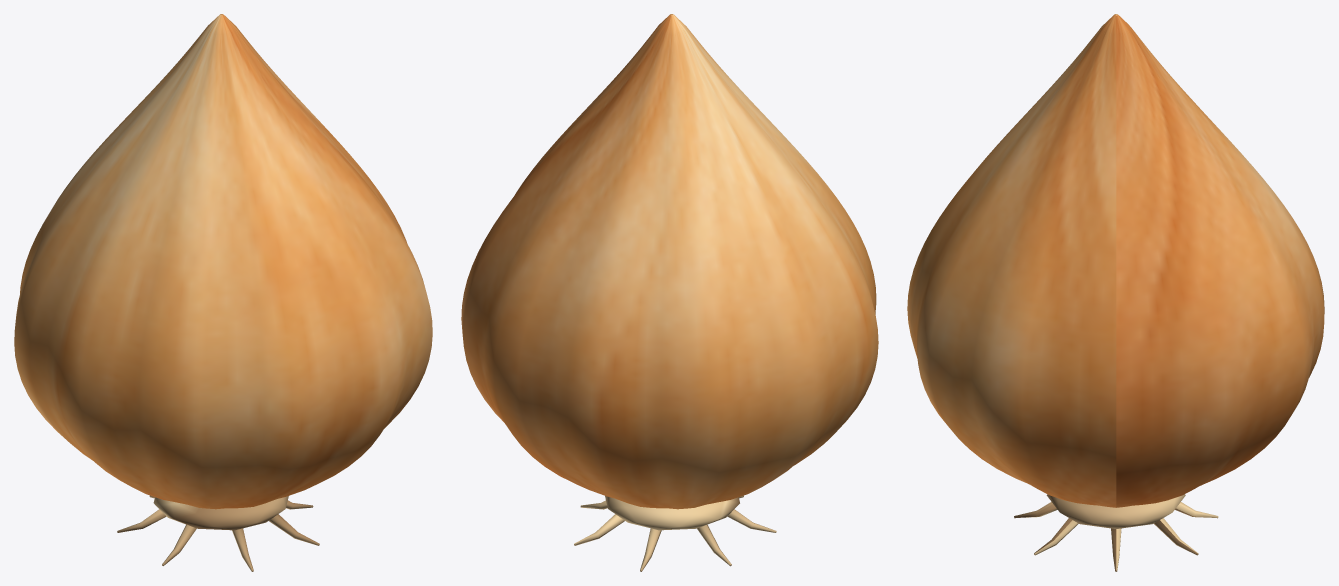
The model's file is NP_Tulip_Bulb.fbx.
3 renders of one model, left to right at view 1: azimuth 30°, elevation 25°; view 2: azimuth 150°, elevation 25°; view 3: azimuth 270°, elevation 25°, orthographic.
Parts seen in each view (by area): view 1: NP_Tulip_Bulb; view 2: NP_Tulip_Bulb; view 3: NP_Tulip_Bulb.
Boxes of the visible parts, x1,y1,x2,y2 form: NP_Tulip_Bulb: (14,14,432,571); NP_Tulip_Bulb: (461,14,878,571); NP_Tulip_Bulb: (907,14,1324,571).
Size of the model in its own units: 20.4 by 27.66 by 20.38.
